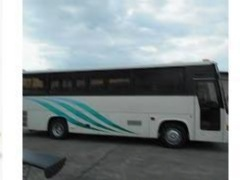bus: (24, 58, 227, 148)
